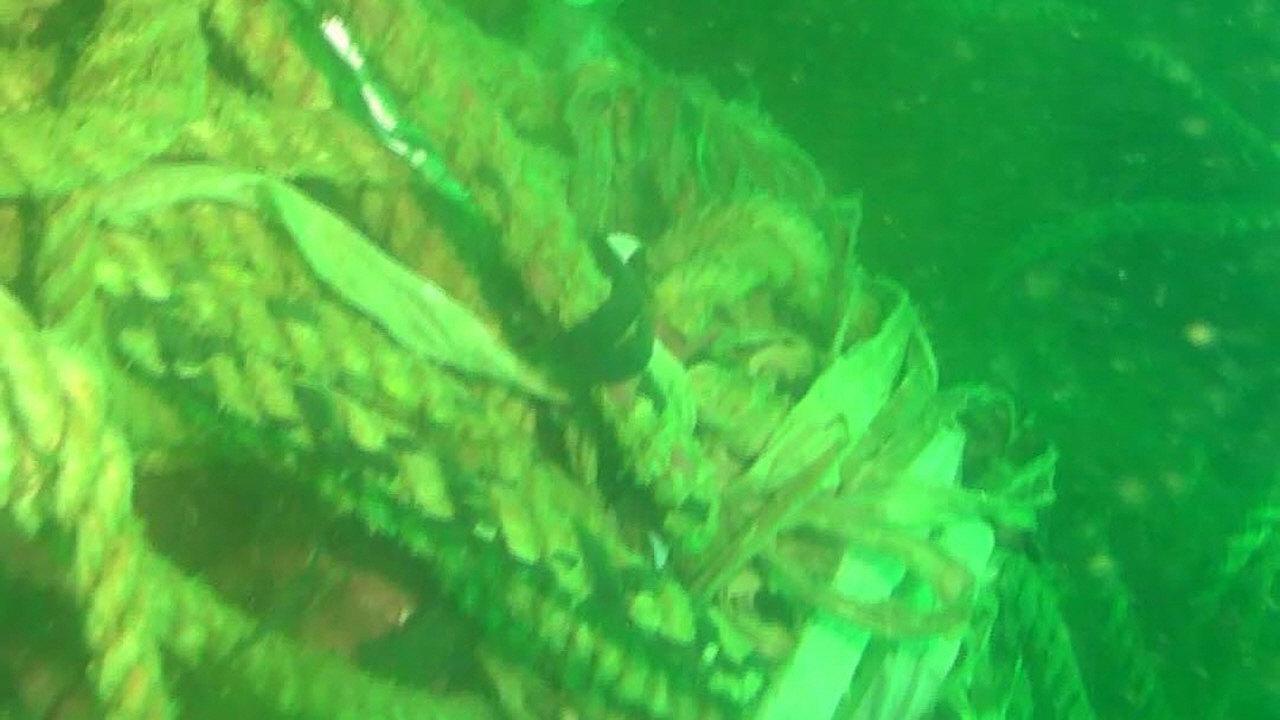bundle of ropes: (0, 0, 1094, 720)
